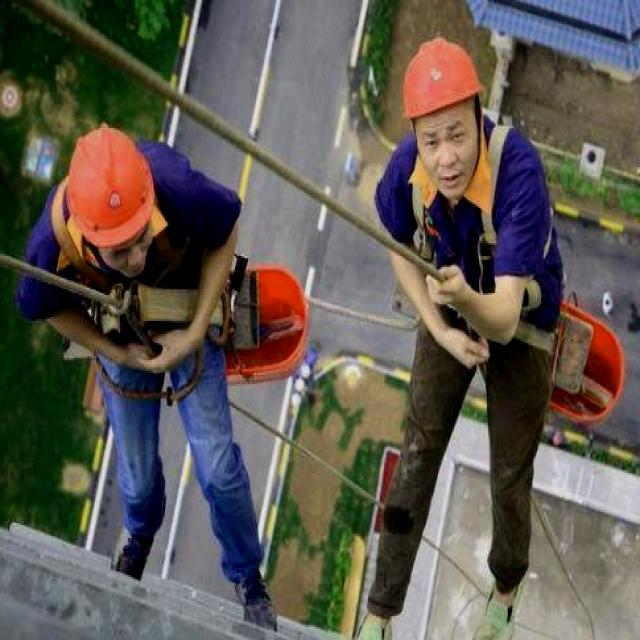face_nomask: (420, 106, 479, 196), (98, 224, 153, 284)
hand_noglove: (133, 319, 203, 379), (419, 264, 468, 314), (438, 332, 495, 373)
head_helmet: (68, 122, 152, 248), (400, 29, 480, 122)
person: (14, 118, 258, 604), (362, 37, 545, 636)
shoes: (99, 506, 166, 592), (230, 562, 280, 636)
